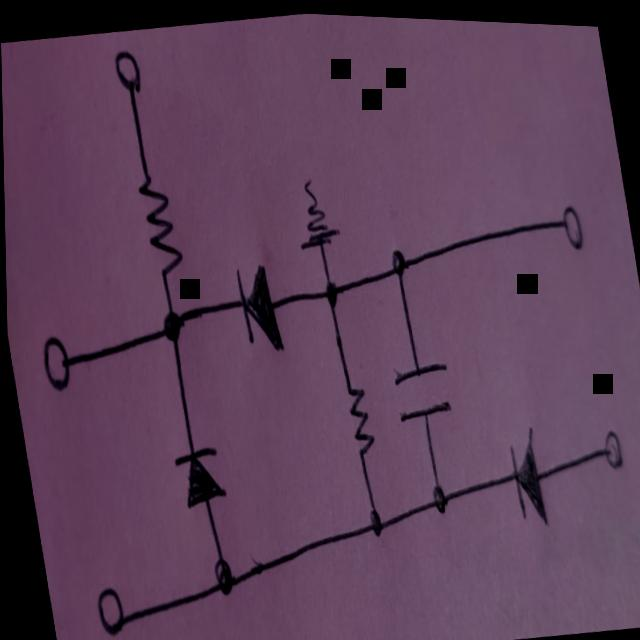capacitor: (391, 352, 451, 424)
diode: (231, 259, 282, 353), (502, 430, 549, 529), (169, 439, 226, 515)
ground: (288, 173, 342, 254)
junction: (153, 302, 185, 353), (204, 551, 234, 601), (425, 476, 451, 518), (318, 271, 341, 310), (362, 499, 385, 538), (385, 241, 408, 278)
resistor: (134, 171, 185, 284), (340, 372, 376, 459)
terminal: (39, 333, 77, 397), (107, 41, 146, 101), (90, 580, 128, 640), (596, 417, 624, 470), (558, 198, 586, 251)
